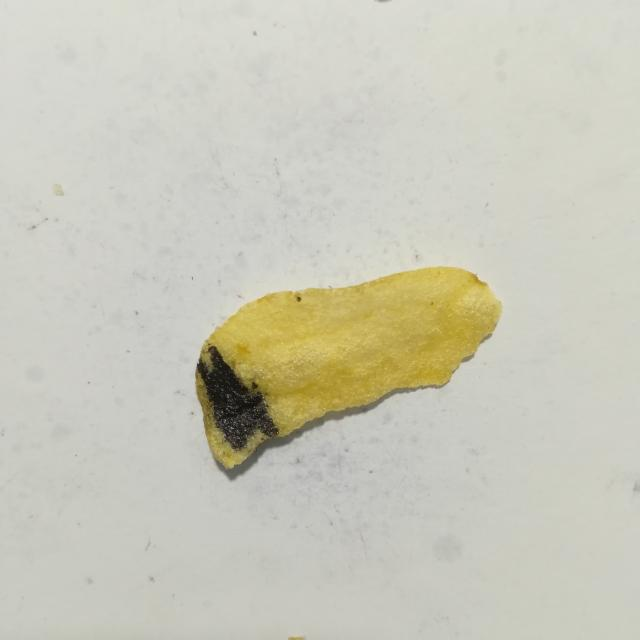chip: (195, 267, 502, 468)
damaged: (197, 346, 278, 450)
semi-damaged: (296, 296, 301, 301)
